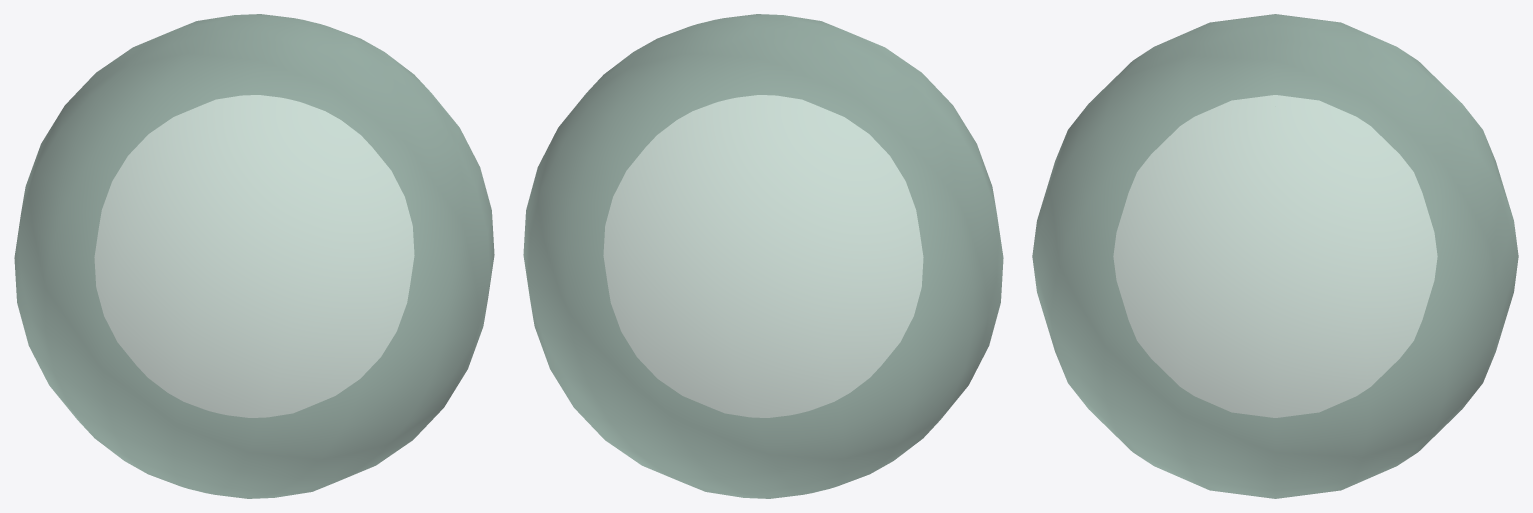
Rendered from tube1orb1.glb.
3 renders of one model, left to right at view 1: azimuth 30°, elevation 25°; view 2: azimuth 150°, elevation 25°; view 3: azimuth 270°, elevation 25°, orthographic.
Parts seen in each view (by area): view 1: orboutside1, orbinside1; view 2: orboutside1, orbinside1; view 3: orboutside1, orbinside1.
Part boxes in pixels (box(x1,y1,x2,y2)): orboutside1: box(14, 14, 494, 498); orbinside1: box(94, 95, 414, 417); orboutside1: box(523, 14, 1003, 498); orbinside1: box(603, 95, 923, 417); orboutside1: box(1032, 14, 1518, 498); orbinside1: box(1113, 95, 1437, 417).
Bounding box in the file's own units: 0.5982 × 0.5982 × 0.6.
